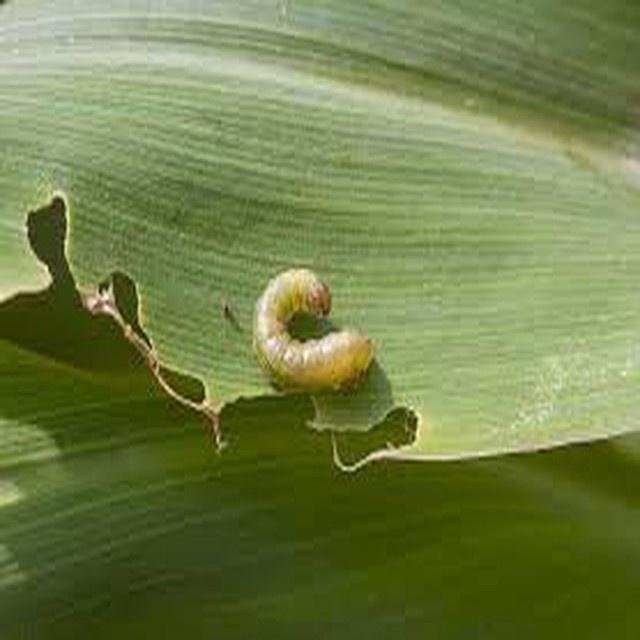gusano_cogollero: (250, 259, 378, 391)
